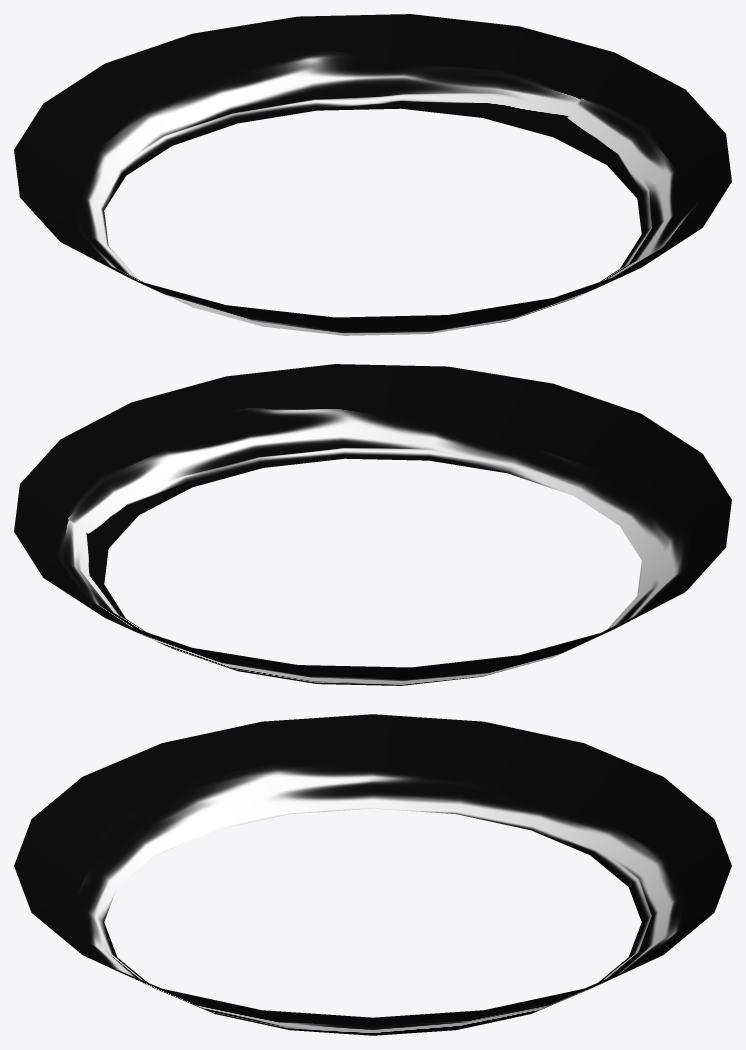
Rendered from san_bomb_FBX_core04.fbx.
The picture shows the model from 3 angles, top to bottom: view 1: azimuth 30°, elevation 25°; view 2: azimuth 150°, elevation 25°; view 3: azimuth 270°, elevation 25°; orthographic projection.
Parts seen in each view (by area): view 1: pCylinder1; view 2: pCylinder1; view 3: pCylinder1.
Part boxes in pixels (box(x1,y1,x2,y2)): pCylinder1: box(14, 14, 731, 335); pCylinder1: box(14, 364, 731, 685); pCylinder1: box(14, 714, 731, 1035).
Size of the model in its own units: 22.17 by 1.92 by 22.17.
Materials: 1 (1 with a texture image).
